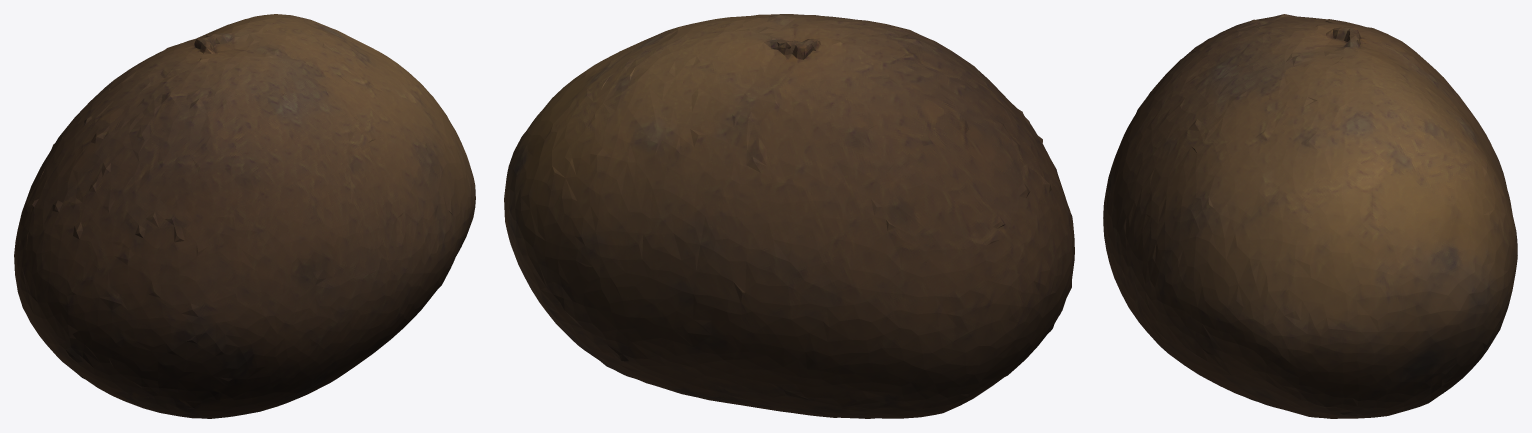
The model's file is sample(2).glb.
3 renders of one model, left to right at view 1: azimuth 30°, elevation 25°; view 2: azimuth 150°, elevation 25°; view 3: azimuth 270°, elevation 25°, orthographic. The views are drawn at different scales.
Visible parts, largest first — view 1: world; view 2: world; view 3: world.
Boxes of the visible parts, x1=… form: world: x1=14, y1=14, x2=475, y2=418; world: x1=504, y1=14, x2=1074, y2=418; world: x1=1103, y1=14, x2=1517, y2=418.
Size of the model in its own units: 0.5731 by 0.4178 by 0.4465.
1 material, 1 textured.
